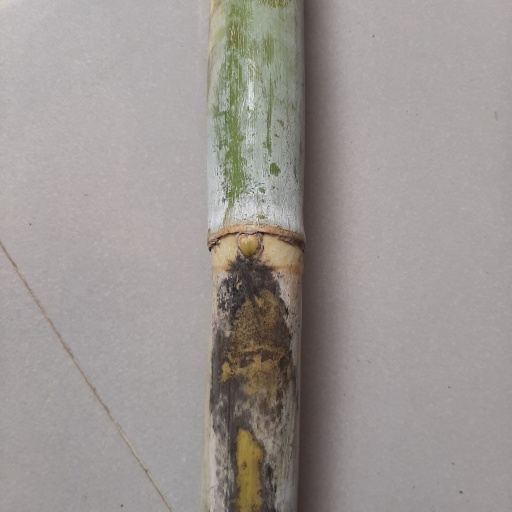Bud: (236, 232, 263, 263)
